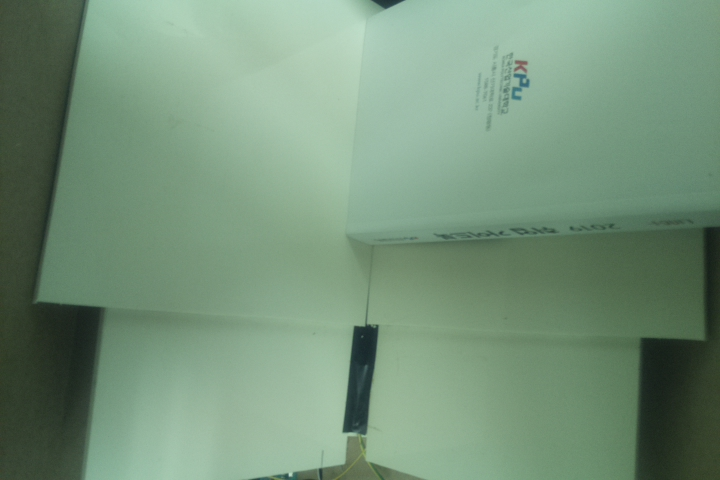book: (342, 1, 720, 250)
